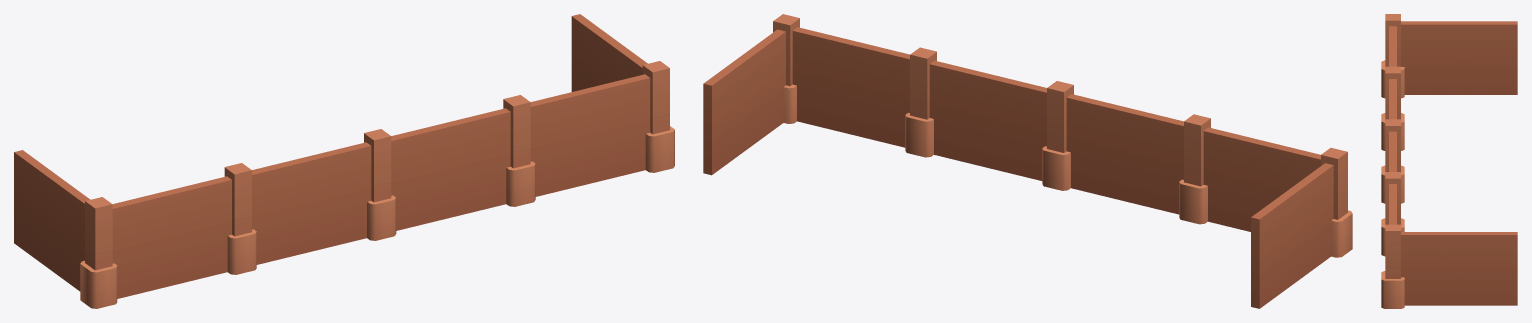
Rendered from fence-1x4.draco.glb.
3 renders of one model, left to right at view 1: azimuth 30°, elevation 25°; view 2: azimuth 150°, elevation 25°; view 3: azimuth 270°, elevation 25°, orthographic. The views are drawn at different scales.
Parts seen in each view (by area): view 1: fence-1x4; view 2: fence-1x4; view 3: fence-1x4.
Part boxes in pixels (bbox=[...]): fence-1x4: bbox=[14, 14, 674, 308]; fence-1x4: bbox=[703, 14, 1352, 308]; fence-1x4: bbox=[1381, 14, 1517, 308].
Bounding box in the file's own units: 1.68 × 0.27 × 0.4375.
Materials: 1 (1 with a texture image).
